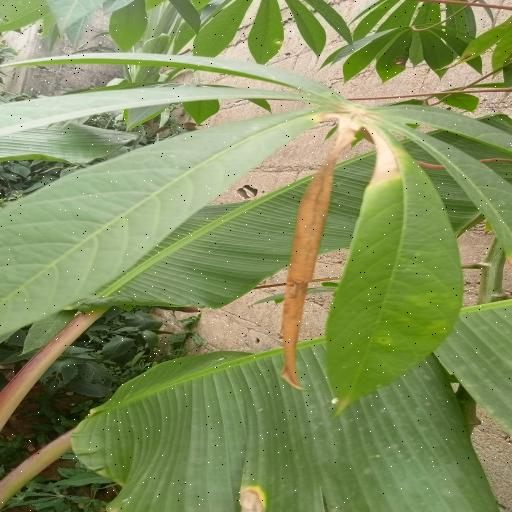Cassava_Root_Rot: (5, 53, 512, 386)
